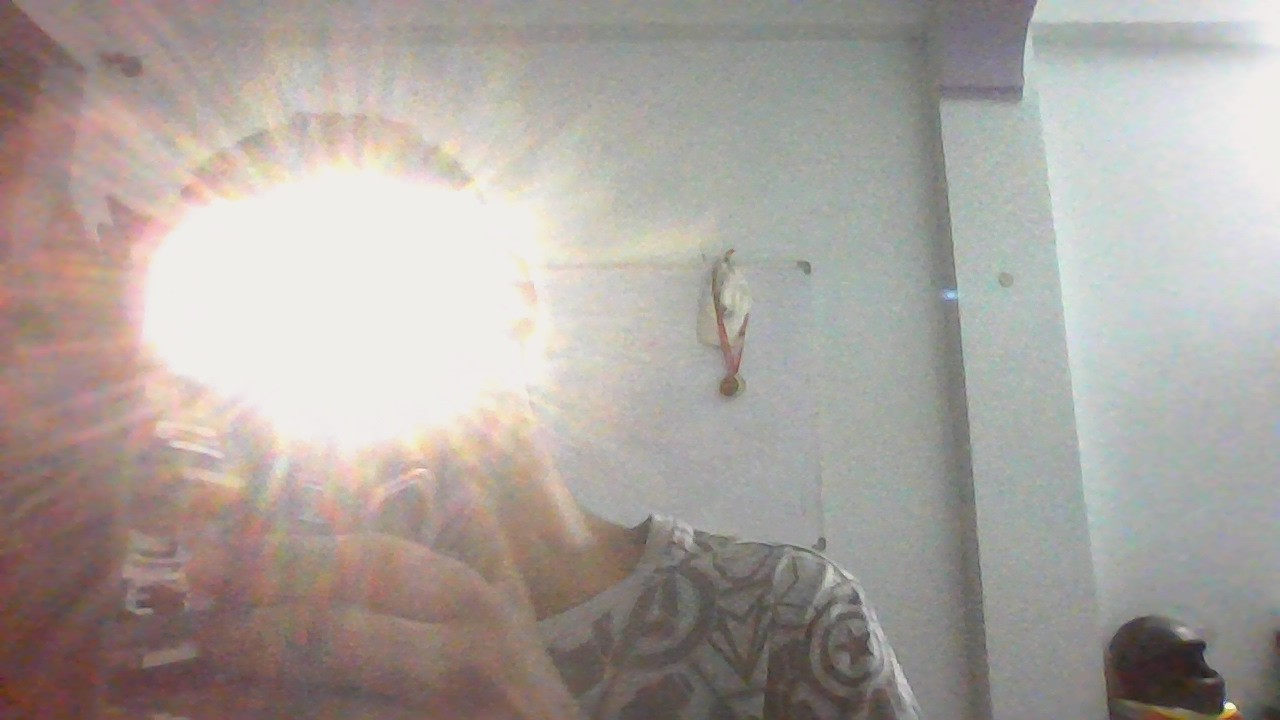Glare: (131, 160, 549, 449)
